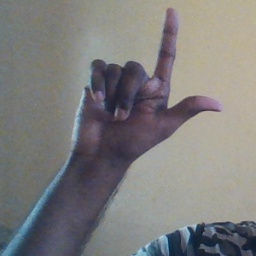L: (69, 7, 223, 160)
